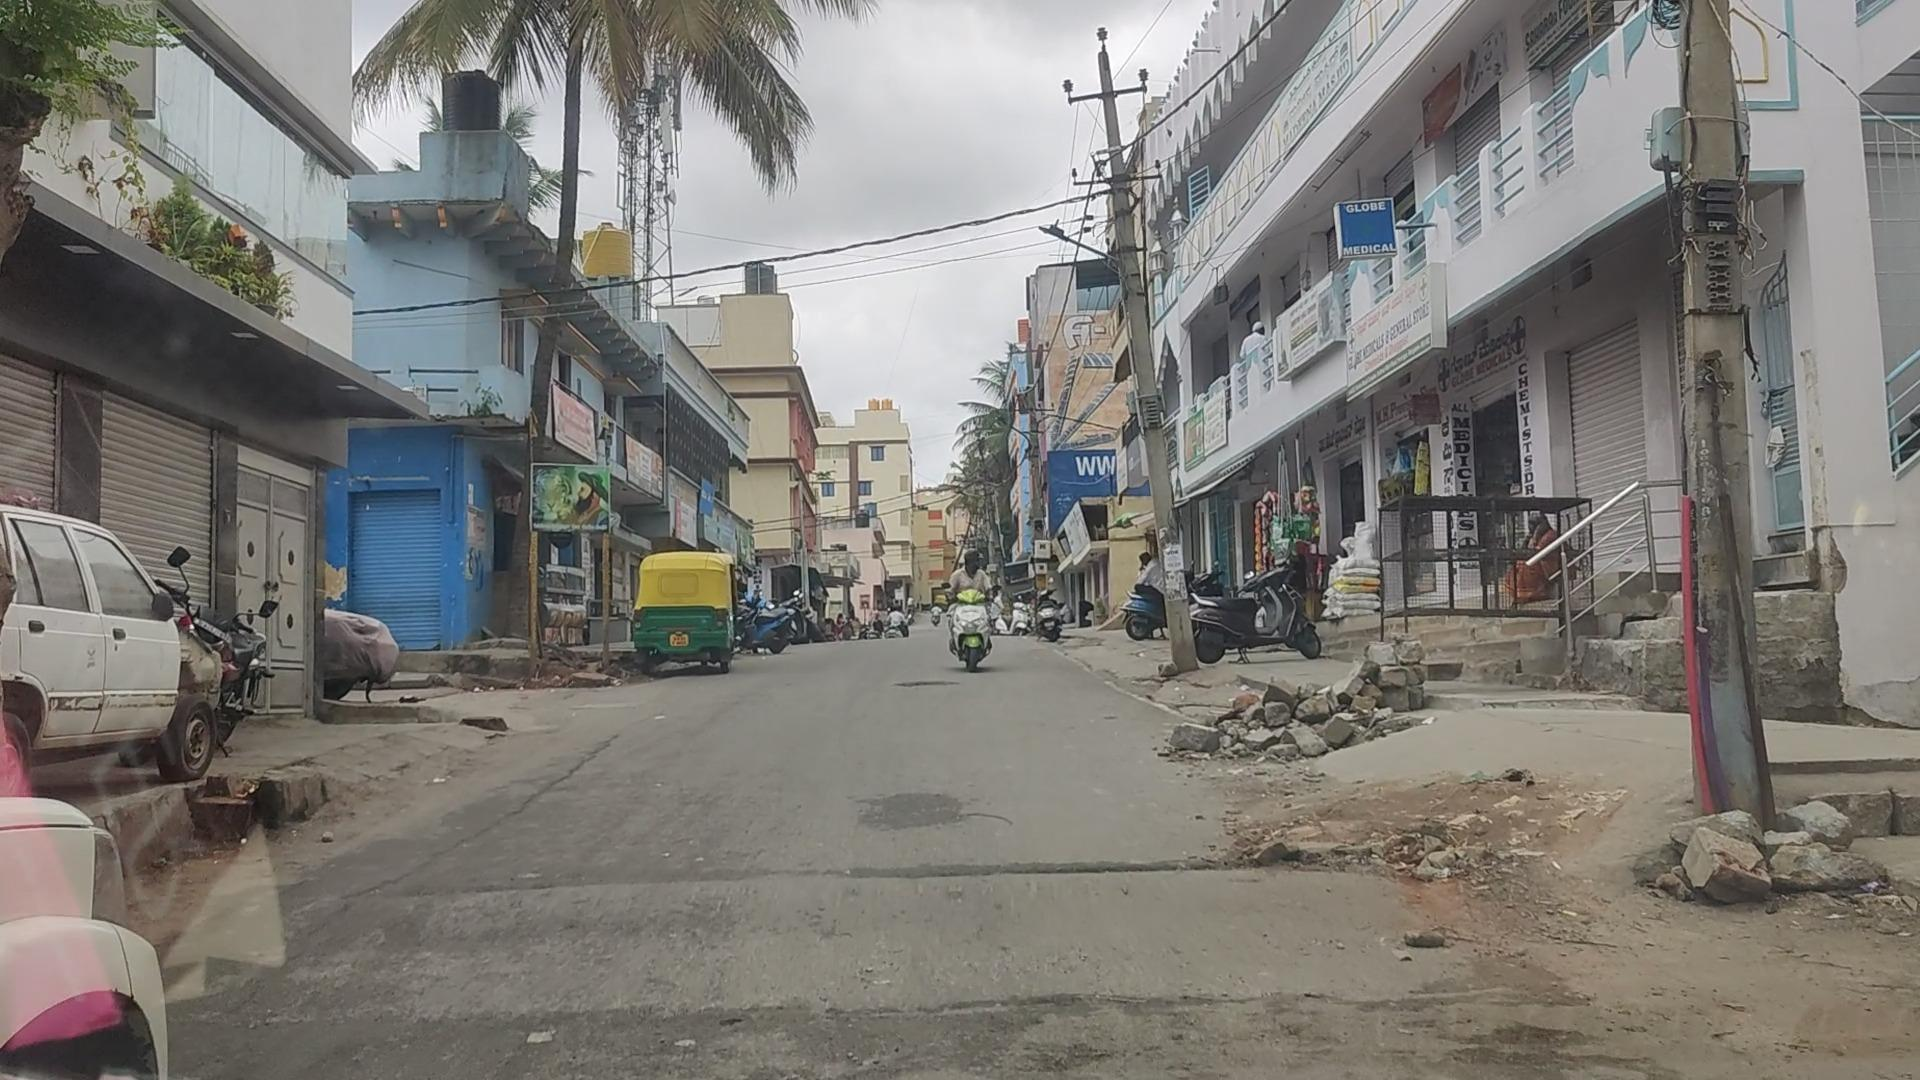RoadDamages: (665, 949, 1352, 1080), (894, 808, 1350, 902)
